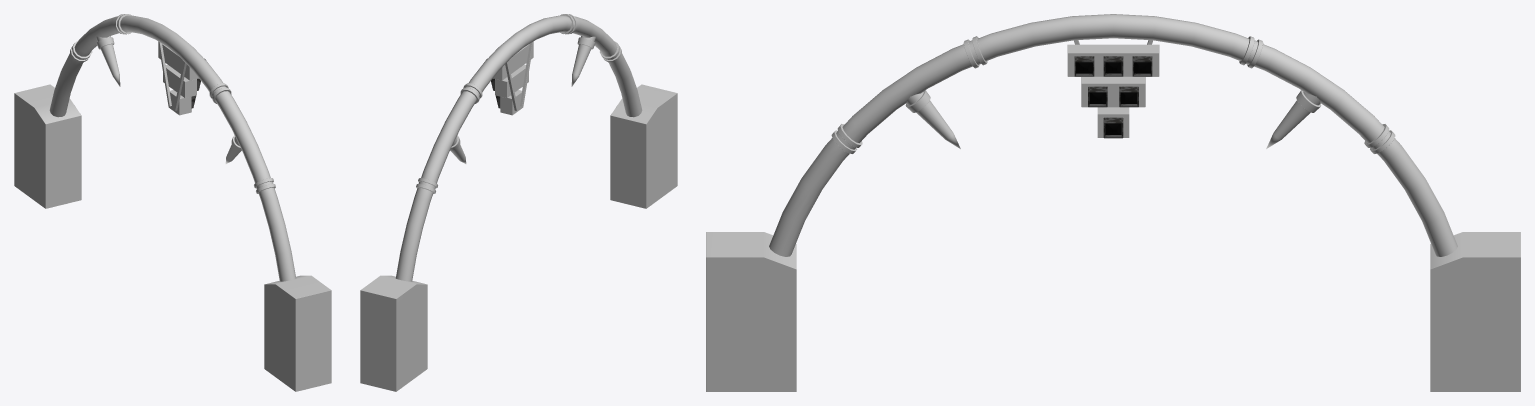
Rendered from starting_line_01.fbx.
3 views of the same model, side by side, from view 1: azimuth 30°, elevation 25°; view 2: azimuth 150°, elevation 25°; view 3: azimuth 270°, elevation 25° (orthographic). The views are drawn at different scales.
Visible parts, largest first — view 1: starting_line_01; view 2: starting_line_01; view 3: starting_line_01.
Part boxes in pixels (left/top/right/bottom): starting_line_01: left=14, top=14, right=331, bottom=391; starting_line_01: left=360, top=14, right=677, bottom=391; starting_line_01: left=706, top=14, right=1520, bottom=391.
Size of the model in its own units: 302 by 1903 by 3858.
